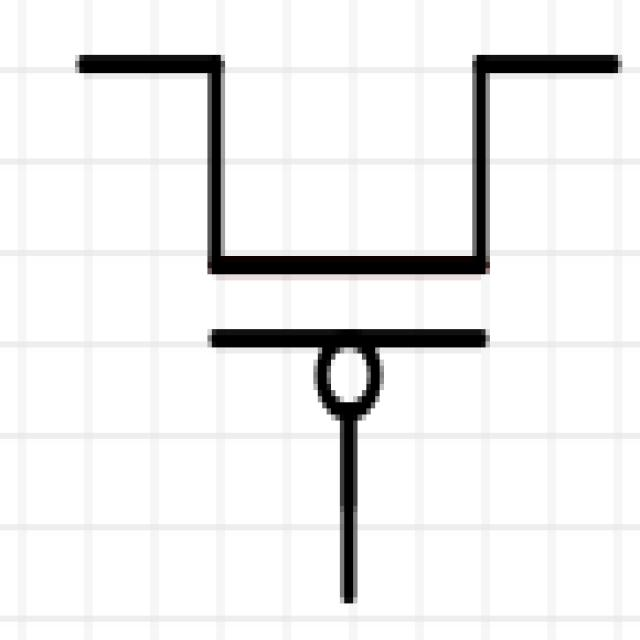pmos: (74, 12, 640, 597)
